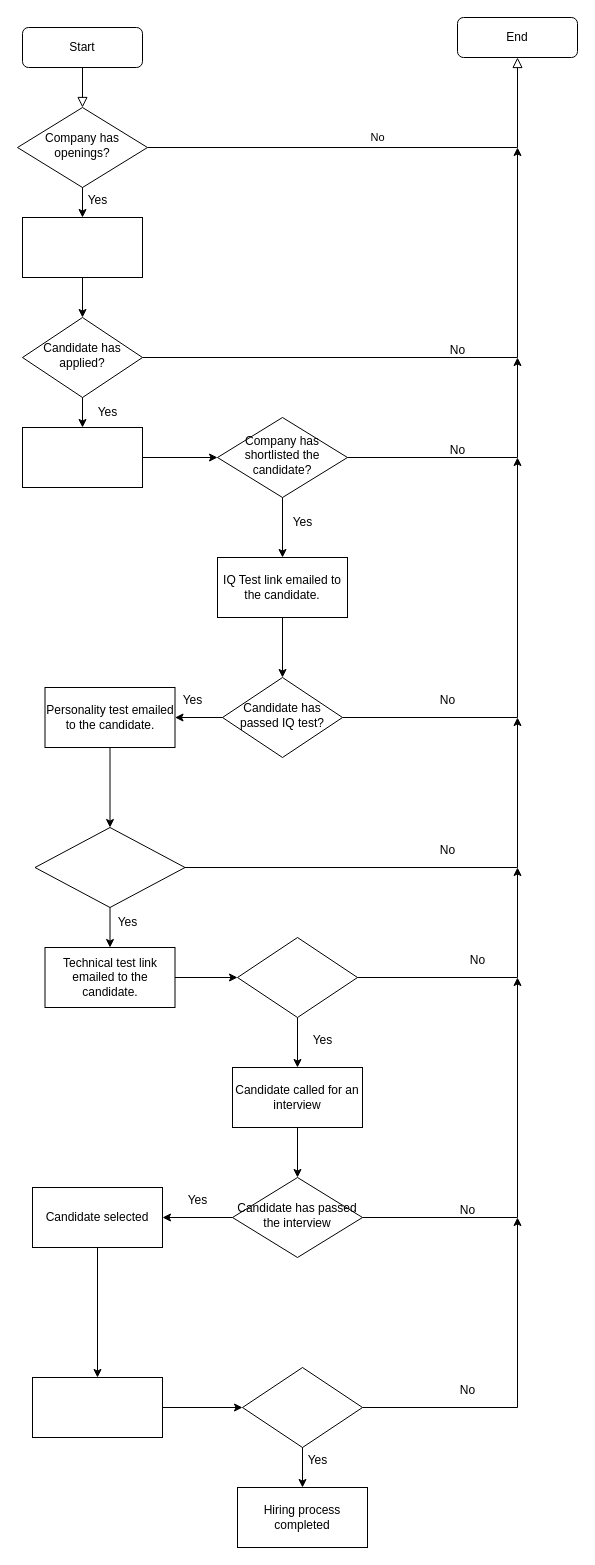
This 595x1565 diagram has some shape labels left out. Each missing label, with the centre of its shape:
"Candidate has accepted the offer?" goes at (302,1407).
"Candidate has passed Personality test?" goes at (109,867).
"Candidate has passed Technical test?" goes at (297,977).
"Company rolls out vacancies." goes at (82,247).
"HR views the Candidate information" goes at (82,457).
"Offer letter sent" goes at (97,1407).
